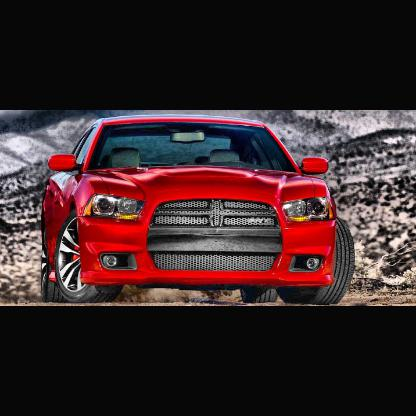Dodge Charger Sedan 2012: (42, 111, 359, 305)
